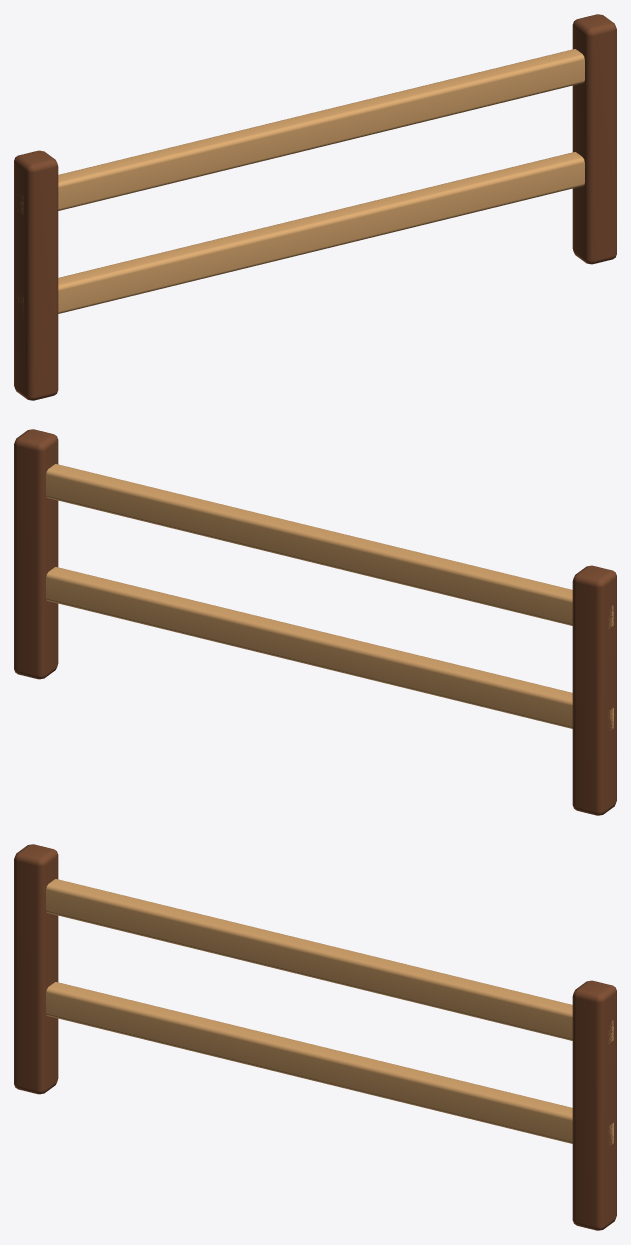
File: faire_fence.glb
3 renders of one model, top to bottom at view 1: azimuth 30°, elevation 25°; view 2: azimuth 150°, elevation 25°; view 3: azimuth 330°, elevation 25°, orthographic.
Parts seen in each view (by area): view 1: Fence; view 2: Fence; view 3: Fence.
Boxes of the visible parts, left/top/right/bottom form: Fence: left=14, top=14, right=616, bottom=400; Fence: left=14, top=429, right=616, bottom=815; Fence: left=14, top=844, right=616, bottom=1230.
Bounding box in the file's own units: 3 × 1.15 × 0.16.
